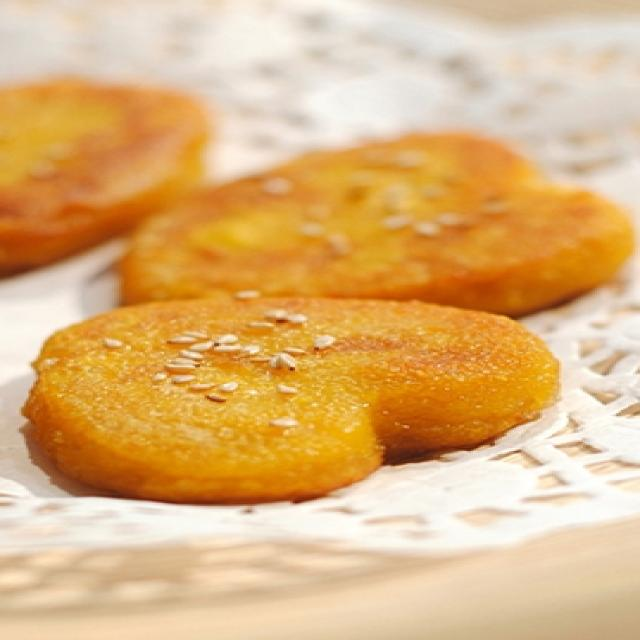炸货点心: (5, 26, 638, 556)
蛋糕甜品: (5, 26, 638, 556)
